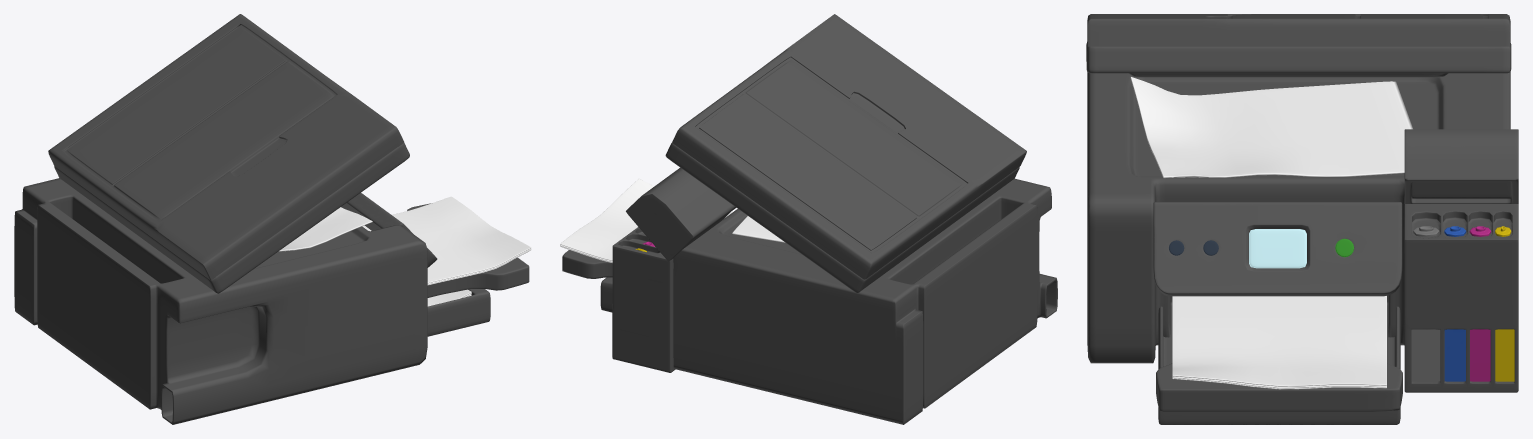
The model's file is printer.glb.
3 views of the same model, side by side, from view 1: azimuth 30°, elevation 25°; view 2: azimuth 150°, elevation 25°; view 3: azimuth 270°, elevation 25° (orthographic). The views are drawn at different scales.
Visible parts, largest first — view 1: 68, 52, 103, 60; view 2: 52, 68, 25, 103, 60; view 3: 103, 68, 52, 60, 25, 122, 144, 155, 166, 14.
Boxes of the visible parts, left/top/right/bottom form: 68: left=14, top=178, right=427, bottom=424; 52: left=48, top=14, right=409, bottom=293; 103: left=278, top=196, right=531, bottom=285; 60: left=341, top=193, right=529, bottom=336; 52: left=626, top=14, right=1026, bottom=292; 68: left=673, top=178, right=1057, bottom=424; 25: left=612, top=227, right=675, bottom=372; 103: left=560, top=178, right=785, bottom=262; 60: left=562, top=207, right=736, bottom=312; 103: left=1130, top=77, right=1412, bottom=389; 68: left=1087, top=72, right=1510, bottom=363; 52: left=1086, top=14, right=1518, bottom=203; 60: left=1153, top=202, right=1402, bottom=424; 25: left=1404, top=204, right=1518, bottom=392; 122: left=1249, top=229, right=1306, bottom=268; 144: left=1411, top=226, right=1440, bottom=381; 155: left=1444, top=226, right=1466, bottom=381; 166: left=1469, top=226, right=1491, bottom=381; 14: left=1495, top=226, right=1514, bottom=381.
Bounding box in the file's own units: 0.5389 × 0.3239 × 0.3825.
